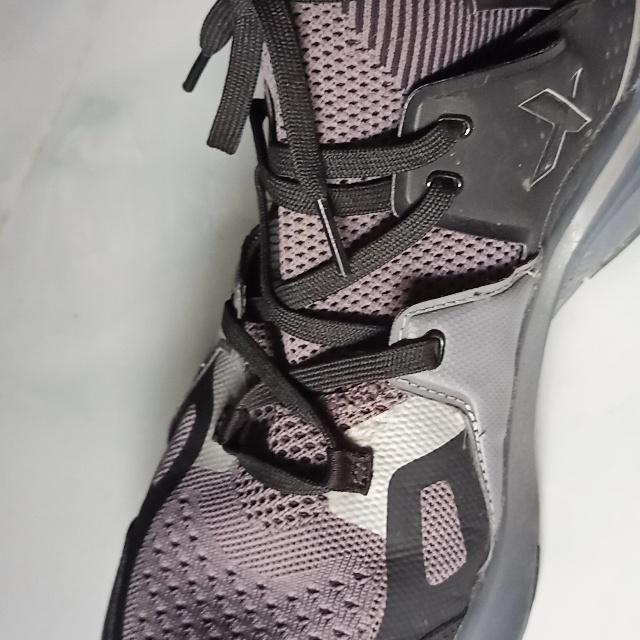broken-error: (473, 288, 495, 308)
